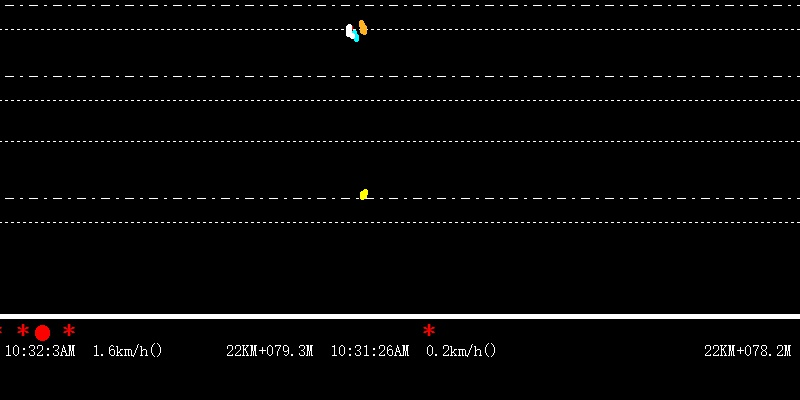circle: (32, 321, 52, 344)
face_1: (358, 17, 368, 36)
face_s: (344, 23, 355, 42)
star: (60, 320, 78, 339), (420, 320, 437, 340), (16, 322, 32, 341)
